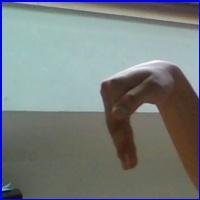A: (92, 54, 193, 181)
